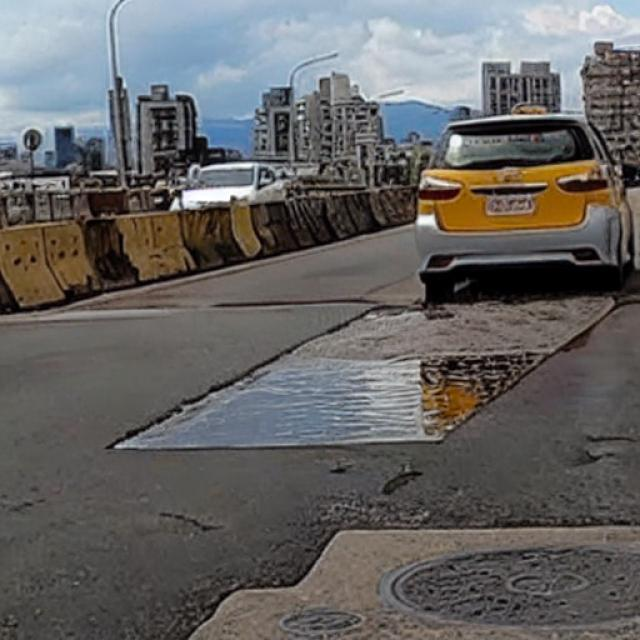puddle: (112, 305, 610, 445)
